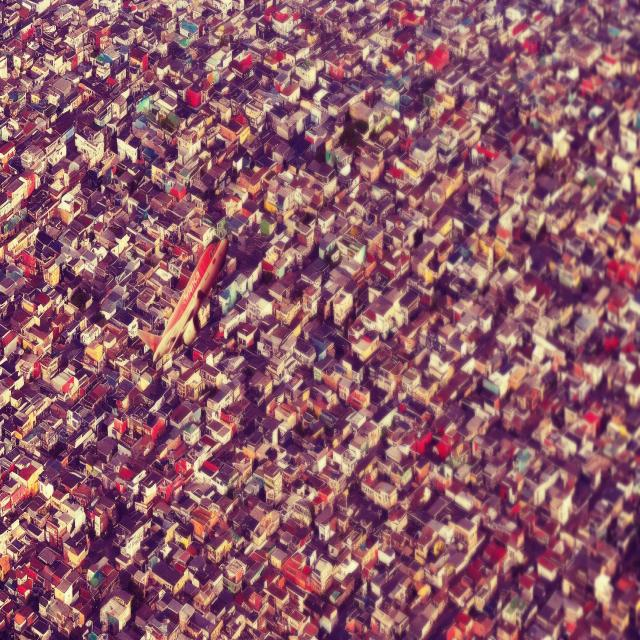airplane: (136, 234, 228, 362)
